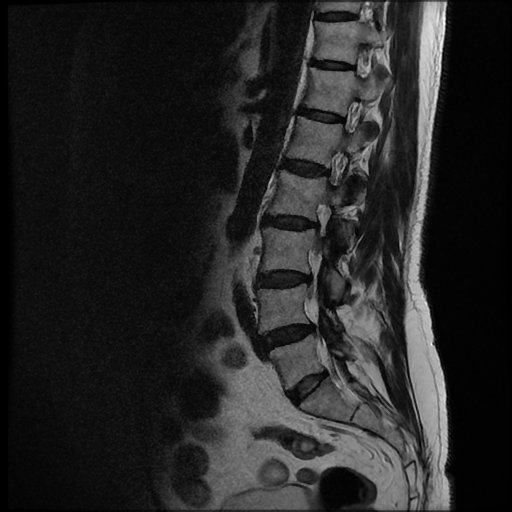LFS0: (323, 140, 356, 193)
